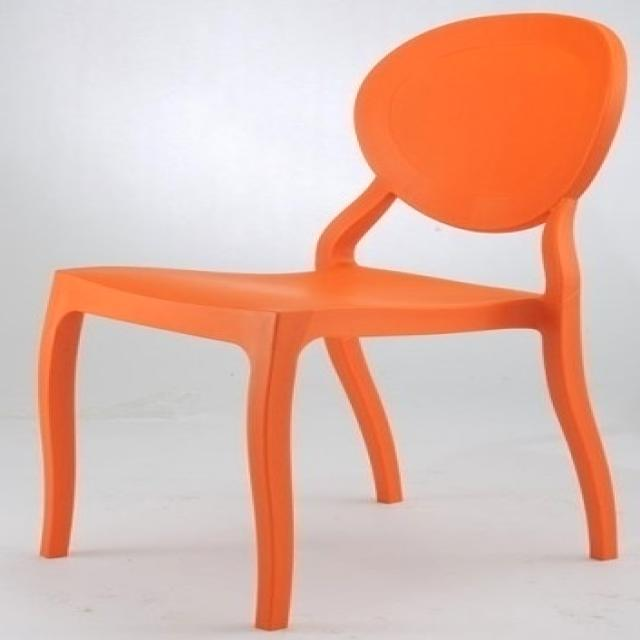Chair: (34, 10, 627, 636)
